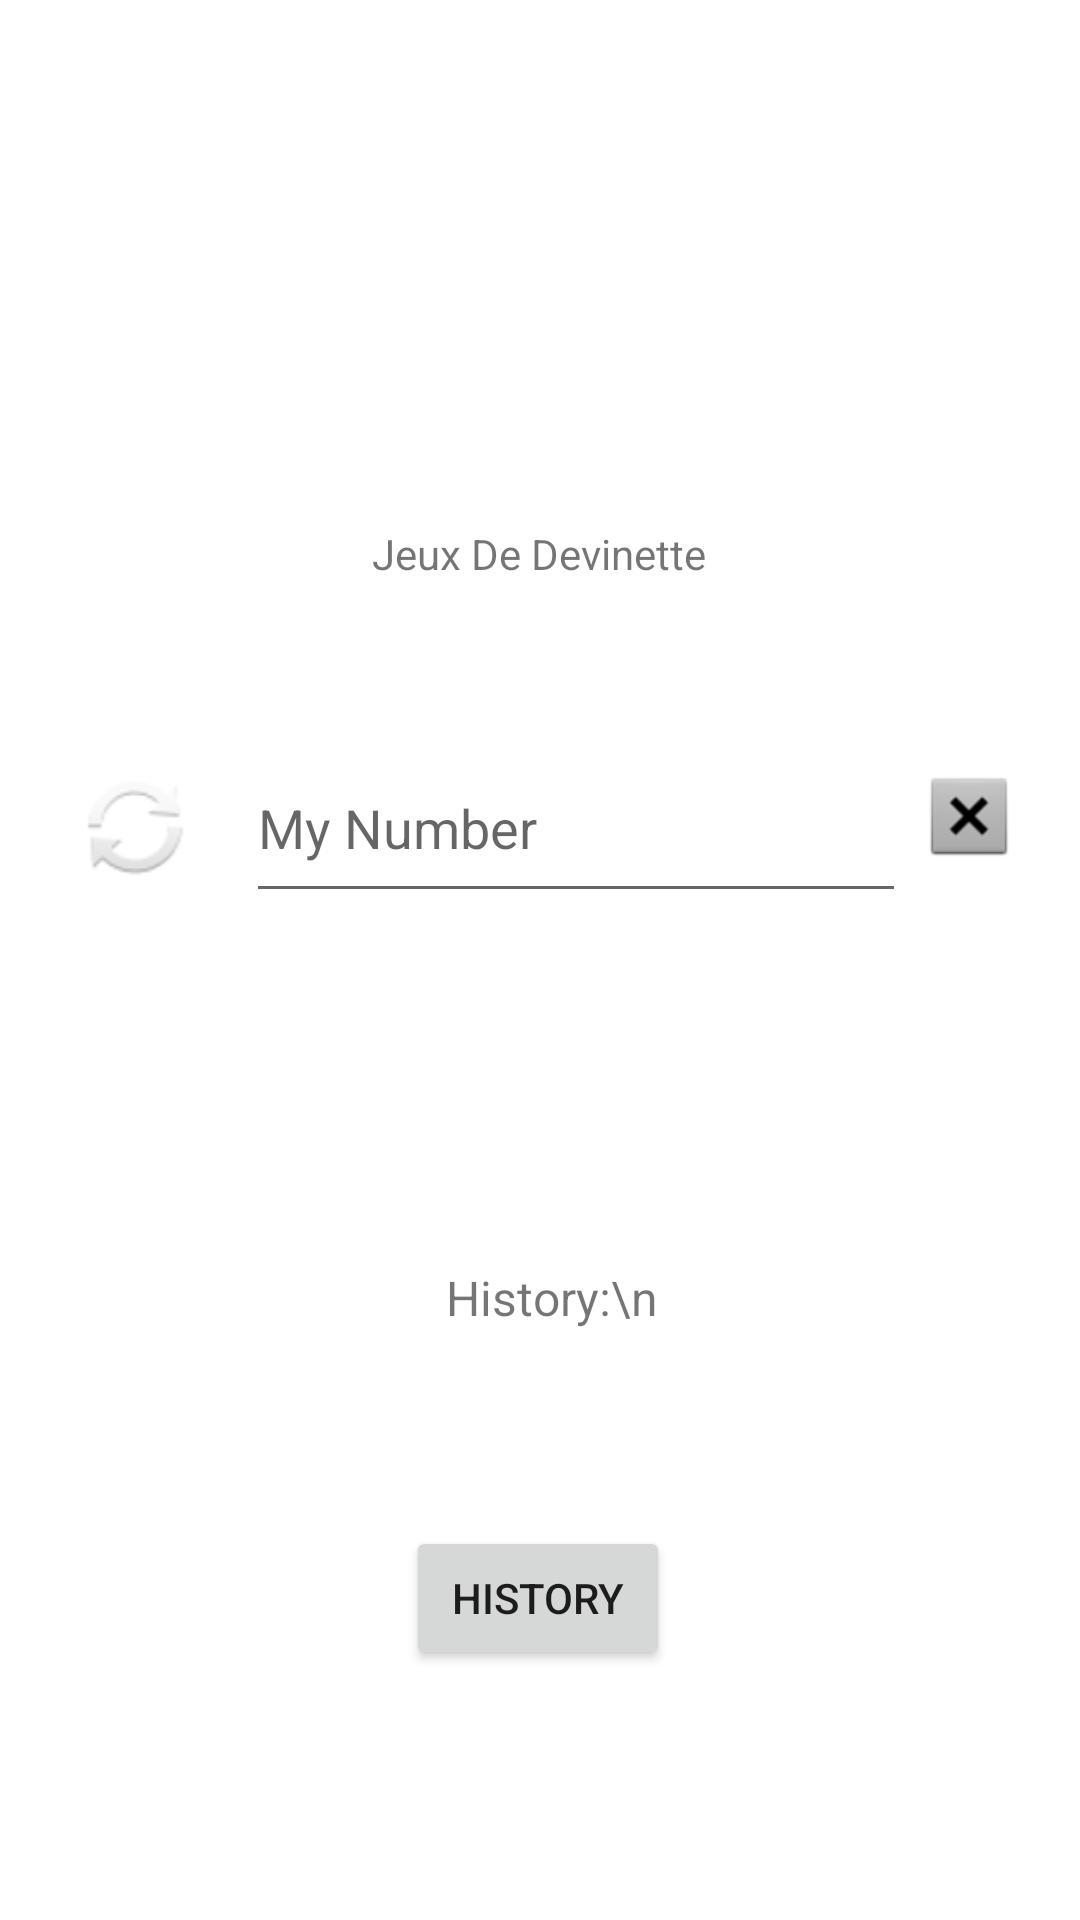

Point at icon controls on the screen. Image size 1080w x 1920h, points as (x=x, y=y).
popup sync: (x=135, y=832)
